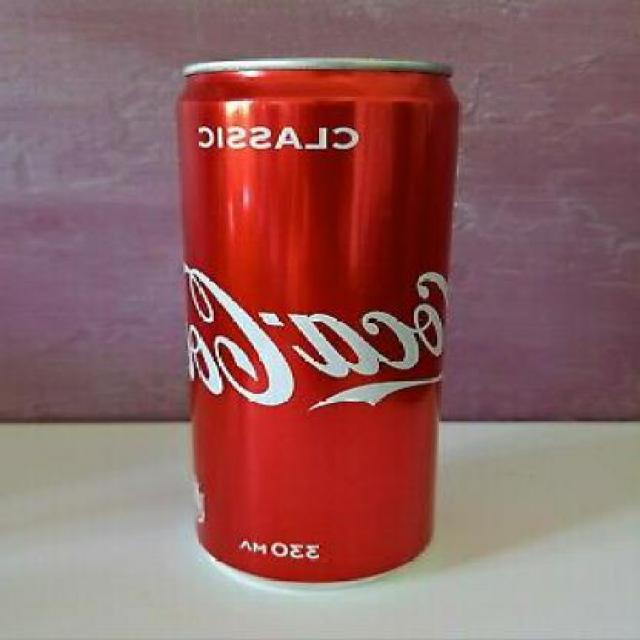can: (151, 31, 471, 602)
